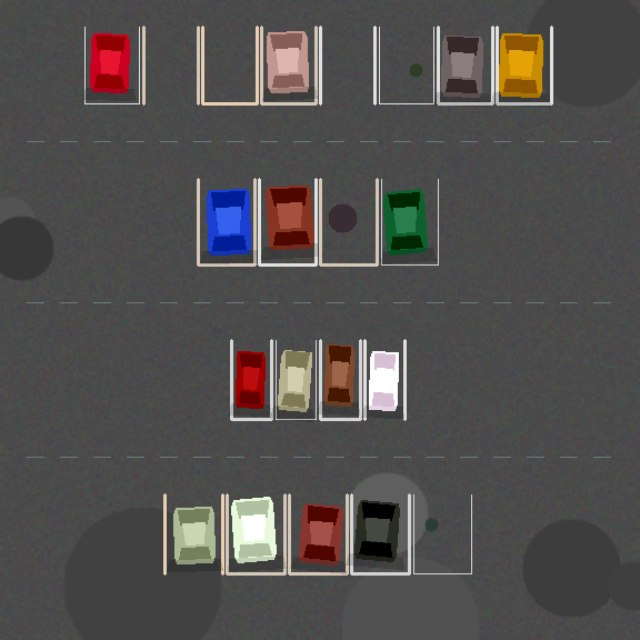space-empty: (320, 179, 377, 264), (413, 494, 471, 573), (143, 27, 198, 103), (202, 27, 257, 103), (320, 27, 374, 103), (379, 27, 433, 103)
space-occupied: (259, 179, 316, 264), (381, 179, 438, 264), (198, 179, 254, 264), (164, 494, 222, 573), (289, 494, 347, 573), (351, 494, 409, 573), (227, 494, 284, 573), (84, 27, 139, 103), (261, 27, 316, 103), (438, 27, 492, 103), (497, 27, 551, 103), (231, 340, 271, 419), (276, 340, 316, 419), (320, 340, 360, 419), (364, 340, 404, 419)
